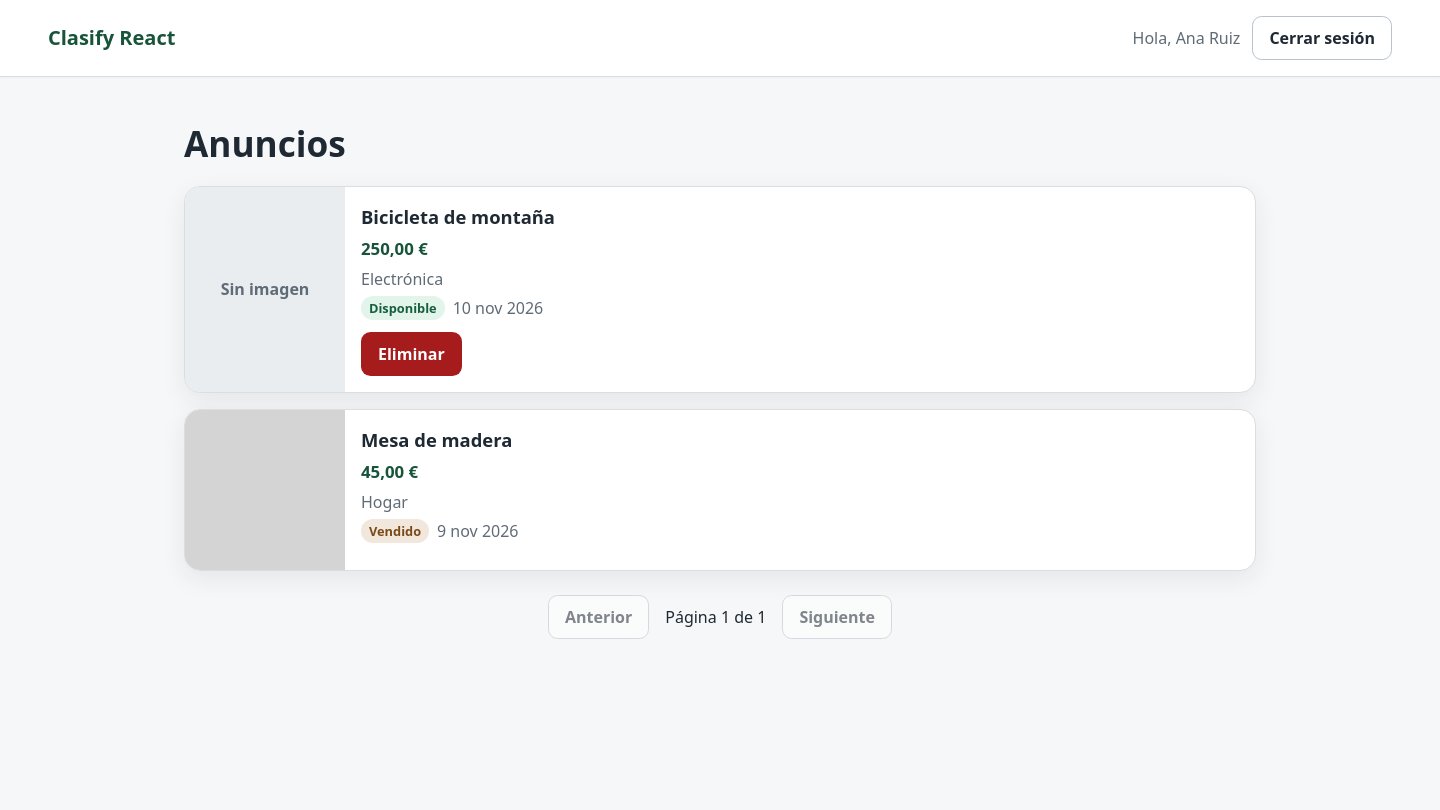
borrado de anuncios propios › confirma el borrado y actualiza el listado
What coordinates should you click on to do the following:
click the button with aria-label "Eliminar Bicicleta de montaña"
I would click on:
 (411, 354)
Its box is 361,332 -> 462,376.
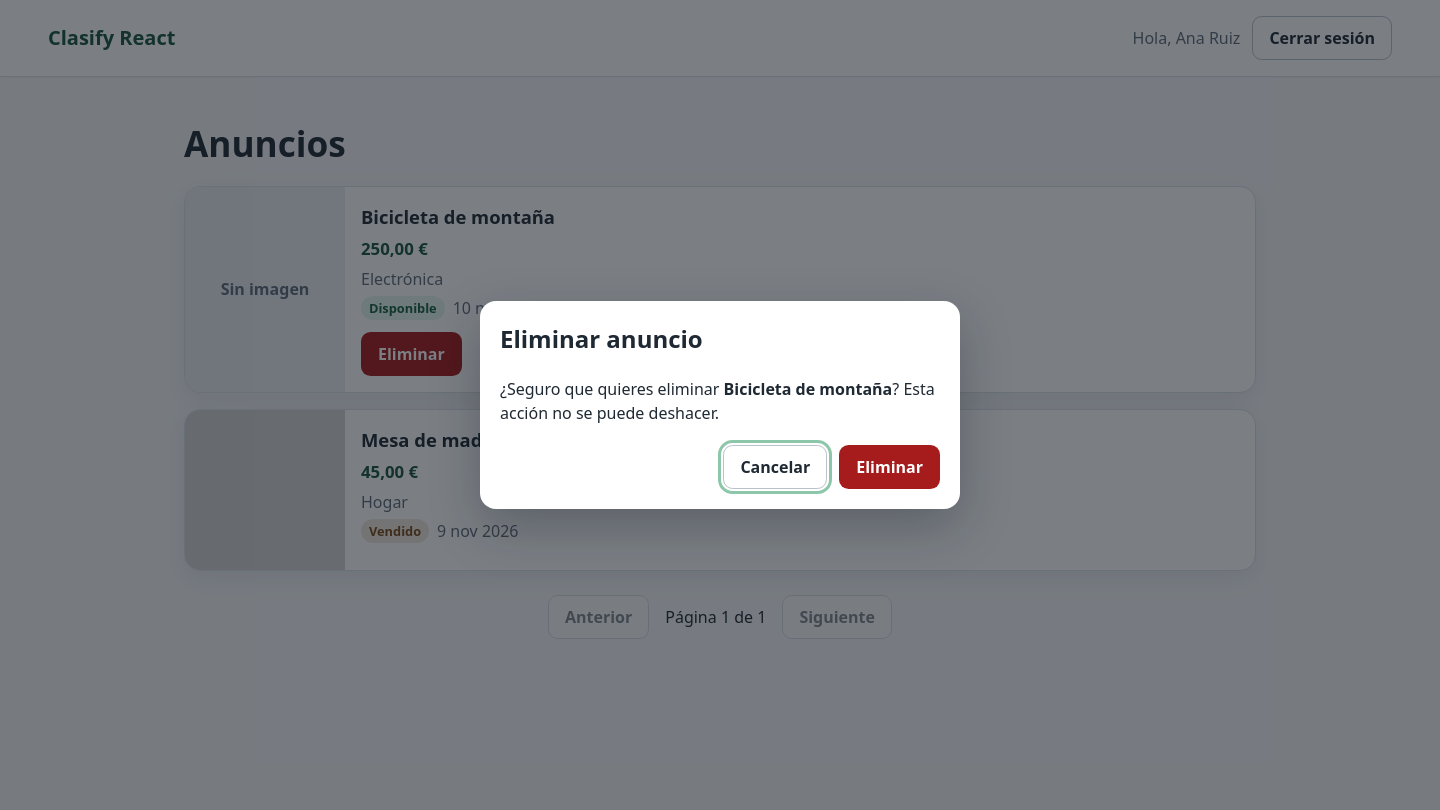
What coordinates should you click on to do the following:
click the button "Eliminar"
I would click on:
 (890, 467)
Its box is 839,445 -> 940,489.
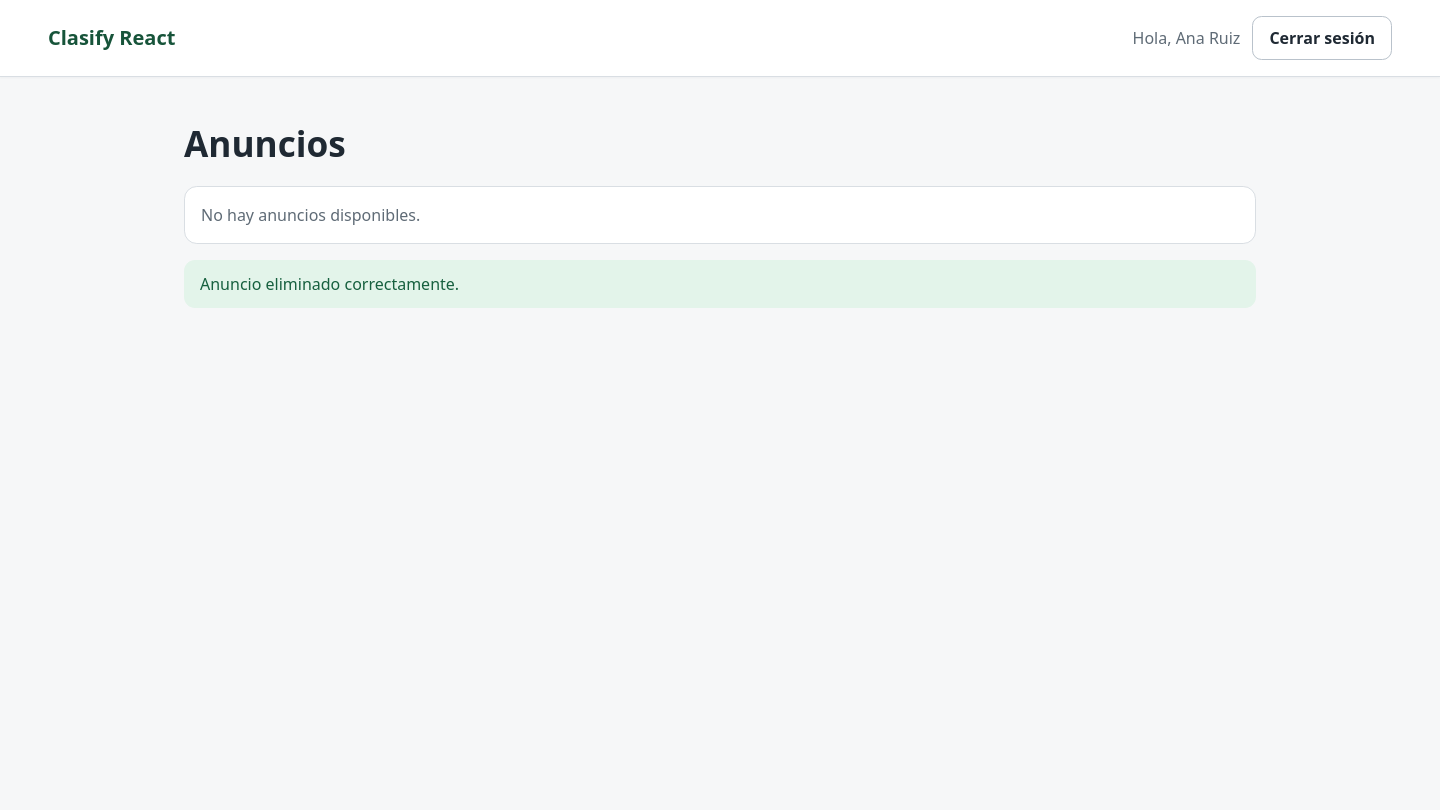
expect the text "Anuncio eliminado correctamente." is shown: met, box 184,260 -> 1256,308
expect the text "No hay anuncios disponibles." is shown: met, box 184,186 -> 1256,244
